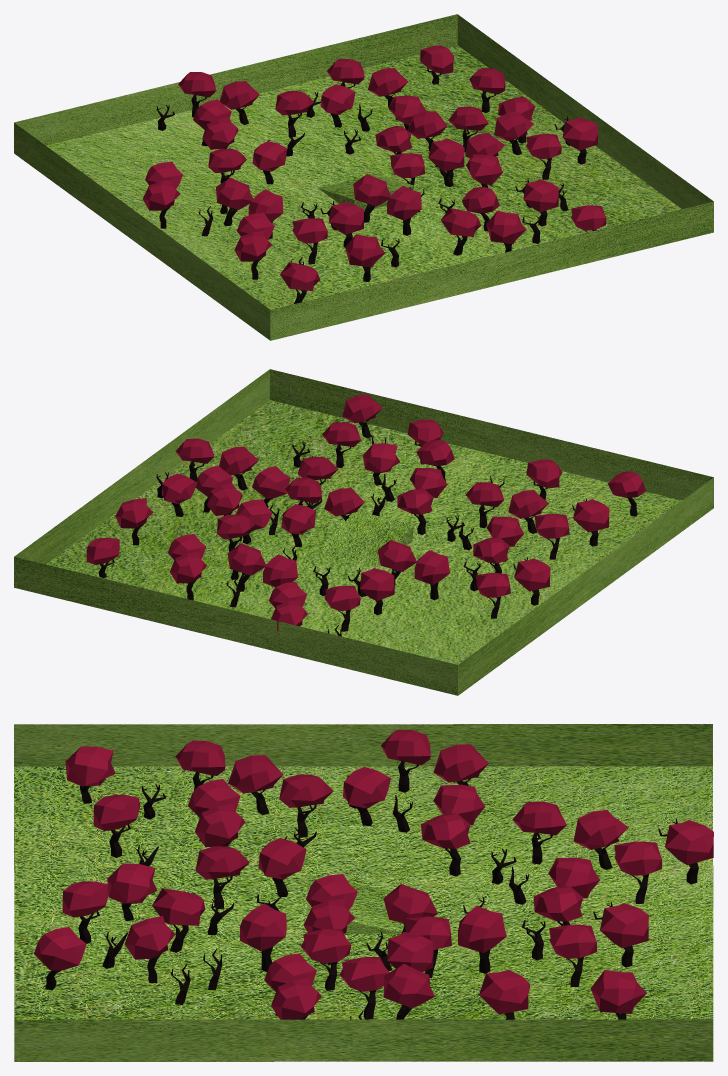
The model's file is forest.obj.
The picture shows the model from 3 angles, top to bottom: view 1: azimuth 30°, elevation 25°; view 2: azimuth 150°, elevation 25°; view 3: azimuth 270°, elevation 25°; orthographic projection. The views are drawn at different scales.
Parts seen in each view (by area): view 1: ground_Plane, wall.002_Plane.003, wall_Plane.001, wall.001_Plane.002, wall.003_Plane.004, block_Cube.001, leaf.037_Cube.071, leaf.033_Cube.069, leaf.035_Cube.069, leaf.007_Cube.017, leaf.003_Cube.013, leaf.011_Cube.027 (+35 smaller); view 2: ground_Plane, wall_Plane.001, wall.002_Plane.003, wall.001_Plane.002, wall.003_Plane.004, block_Cube.001, leaf.013_Cube.029, leaf.017_Cube.031, leaf.025_Cube.049, leaf.021_Cube.047, leaf.002_Cube.011, leaf.032_Cube.068 (+35 smaller); view 3: ground_Plane, wall.003_Plane.004, wall.001_Plane.002, block_Cube.001, leaf.031_Cube.067, leaf.039_Cube.073, leaf.023_Cube.049, leaf.027_Cube.051, leaf.005_Cube.013, leaf.008_Cube.018, leaf.019_Cube.033, leaf.020_Cube.034 (+33 smaller).
Boxes of the visible parts, x1,y1,x2,y2 form: ground_Plane: (46,45,681,309); wall.002_Plane.003: (270,201,713,340); wall_Plane.001: (14,14,457,145); wall.001_Plane.002: (14,123,270,340); wall.003_Plane.004: (457,14,713,209); block_Cube.001: (318,173,413,210); leaf.037_Cube.071: (345,234,384,267); leaf.033_Cube.069: (486,211,526,243); leaf.035_Cube.069: (428,138,464,171); leaf.007_Cube.017: (523,179,558,212); leaf.003_Cube.013: (562,117,597,150); leaf.011_Cube.027: (328,201,363,234); ground_Plane: (46,400,681,664); wall_Plane.001: (14,557,457,695); wall.002_Plane.003: (270,369,713,500); wall.001_Plane.002: (458,477,713,695); wall.003_Plane.004: (14,369,269,564); block_Cube.001: (318,511,414,567); leaf.013_Cube.029: (573,499,609,532); leaf.017_Cube.031: (514,558,550,591); leaf.025_Cube.049: (414,550,449,584); leaf.021_Cube.047: (360,568,394,600); leaf.002_Cube.011: (252,466,290,498); leaf.032_Cube.068: (362,443,400,472); ground_Plane: (14,766,713,1019); wall.003_Plane.004: (14,1019,713,1061); wall.001_Plane.002: (14,724,712,766); block_Cube.001: (307,873,404,933); leaf.031_Cube.067: (590,970,646,1013); leaf.039_Cube.073: (479,969,530,1014); leaf.023_Cube.049: (665,820,713,865); leaf.027_Cube.051: (600,903,648,948); leaf.005_Cube.013: (458,905,506,952); leaf.008_Cube.018: (34,927,86,970); leaf.019_Cube.033: (240,903,286,950); leaf.020_Cube.034: (383,963,434,1008).
Size of the model in its own units: 30.02 by 5.61 by 30.05.
3 materials, 1 textured.
